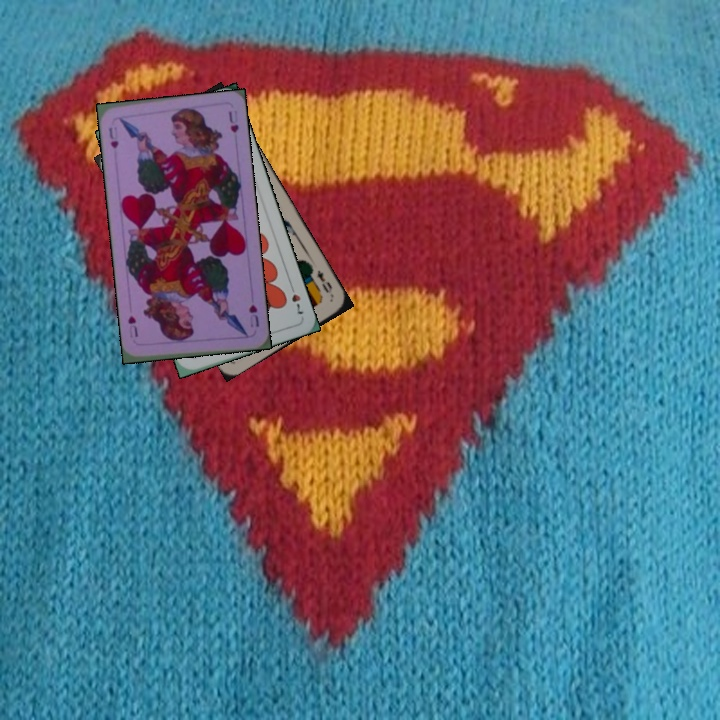EO: (312, 266, 336, 300)
H7: (285, 279, 306, 317)
HU: (245, 301, 262, 330), (104, 123, 121, 151)
